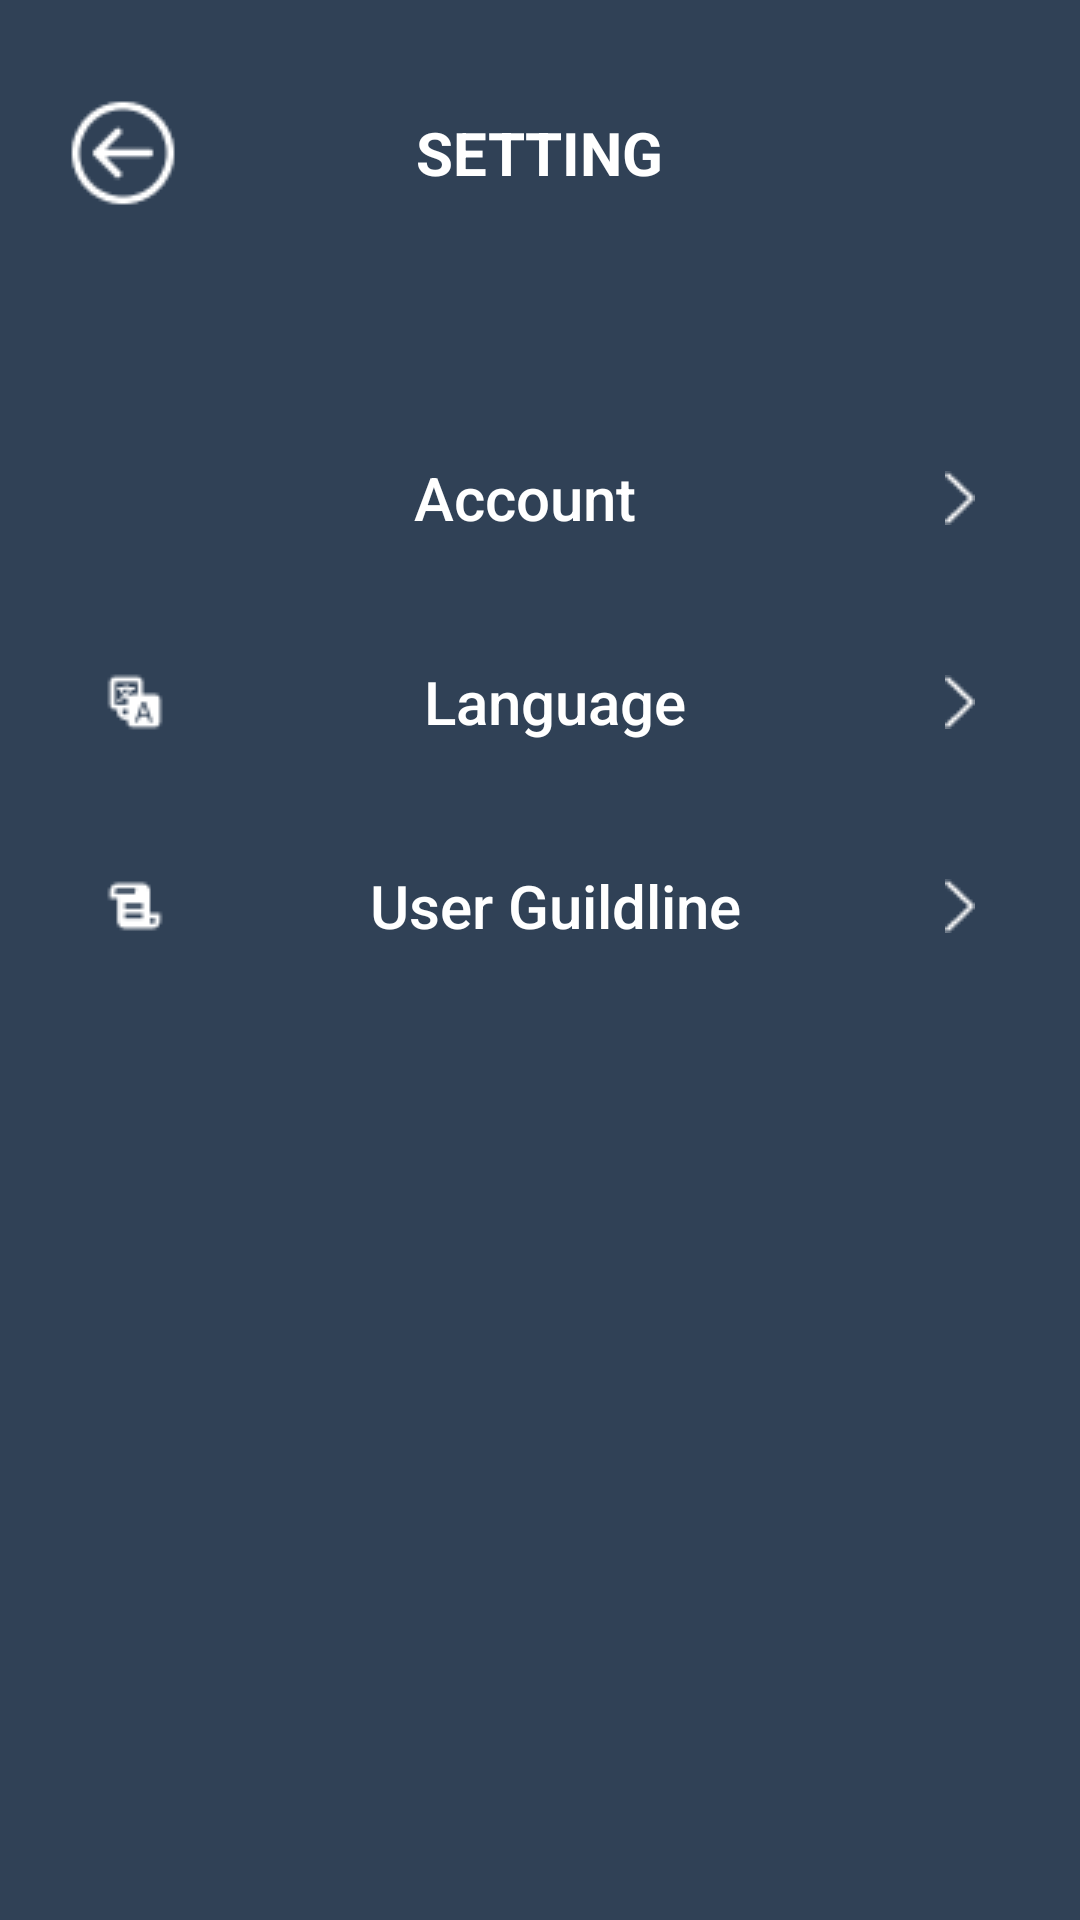

Icons on this 1080px×1920px Android screen, each with the point to tap as [x,y]:
back: [123,153]
